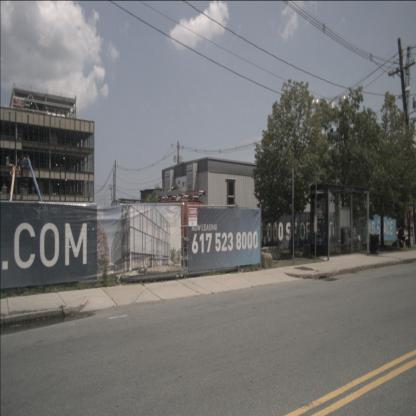human-pedestrian-adult: (352, 220, 362, 254), (398, 223, 408, 249)
